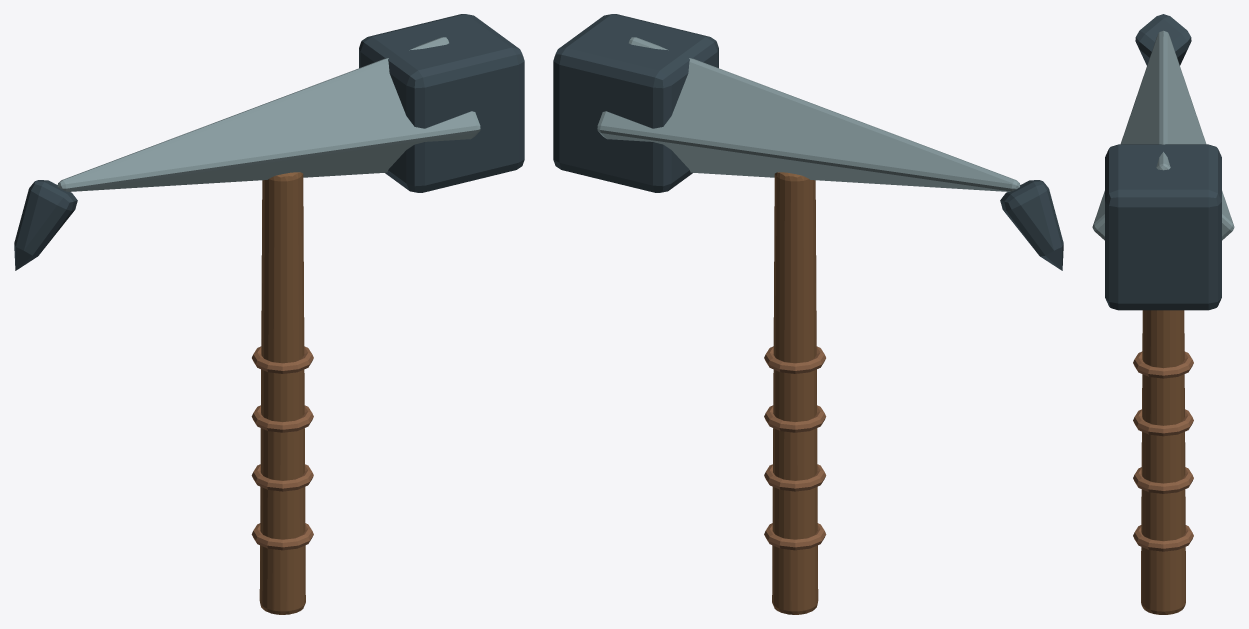
The model's file is weapon_warpick.glb.
The picture shows the model from 3 angles, left to right: view 1: azimuth 30°, elevation 25°; view 2: azimuth 150°, elevation 25°; view 3: azimuth 270°, elevation 25°; orthographic projection.
Visible parts, largest first — view 1: CurvedPick, ArmorBeak, WrappedHaft.001, GripBand.001; view 2: CurvedPick, ArmorBeak, WrappedHaft.001, GripBand.001; view 3: ArmorBeak, WrappedHaft.001, CurvedPick, GripBand.001.
Part boxes in pixels (<box>): CurvedPick: <box>57,37,480,191</box>; ArmorBeak: <box>14,14,524,270</box>; WrappedHaft.001: <box>259,172,305,614</box>; GripBand.001: <box>251,346,313,550</box>; CurvedPick: <box>597,37,1020,191</box>; ArmorBeak: <box>553,14,1063,270</box>; WrappedHaft.001: <box>772,172,818,614</box>; GripBand.001: <box>764,346,826,550</box>; ArmorBeak: <box>1105,14,1221,310</box>; WrappedHaft.001: <box>1141,310,1185,614</box>; CurvedPick: <box>1092,30,1234,240</box>; GripBand.001: <box>1133,351,1193,551</box>.
Size of the model in its own units: 1.04 by 1.08 by 0.268.
